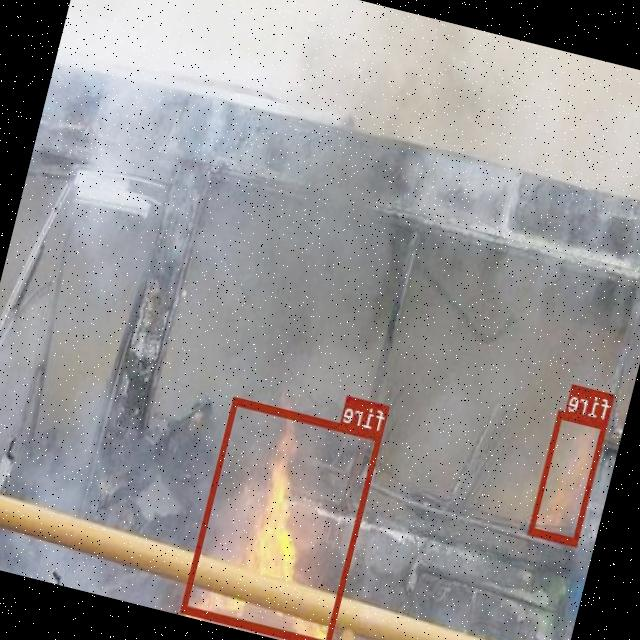fire: (182, 395, 384, 640), (530, 408, 609, 544)
